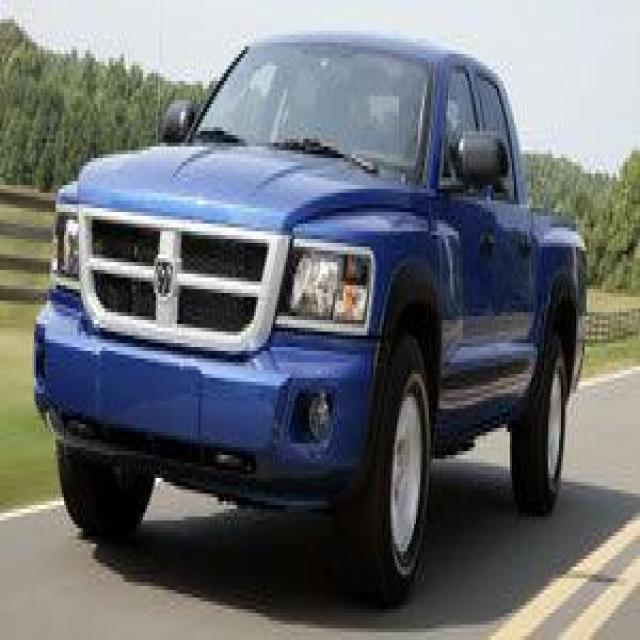Car: (42, 31, 618, 552)
